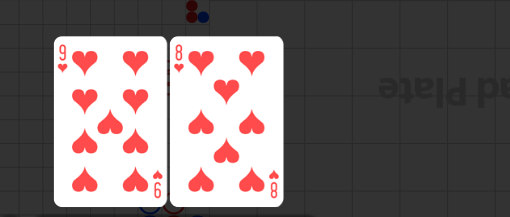8H: (267, 167, 280, 199)
9H: (56, 43, 69, 75)
